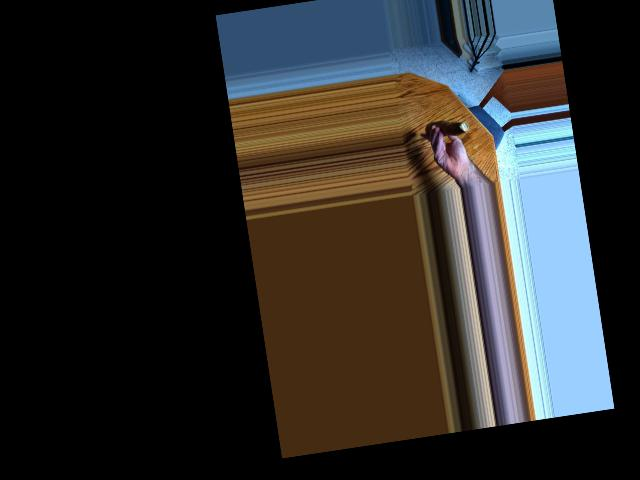sweet_potato: (429, 115, 468, 143)
